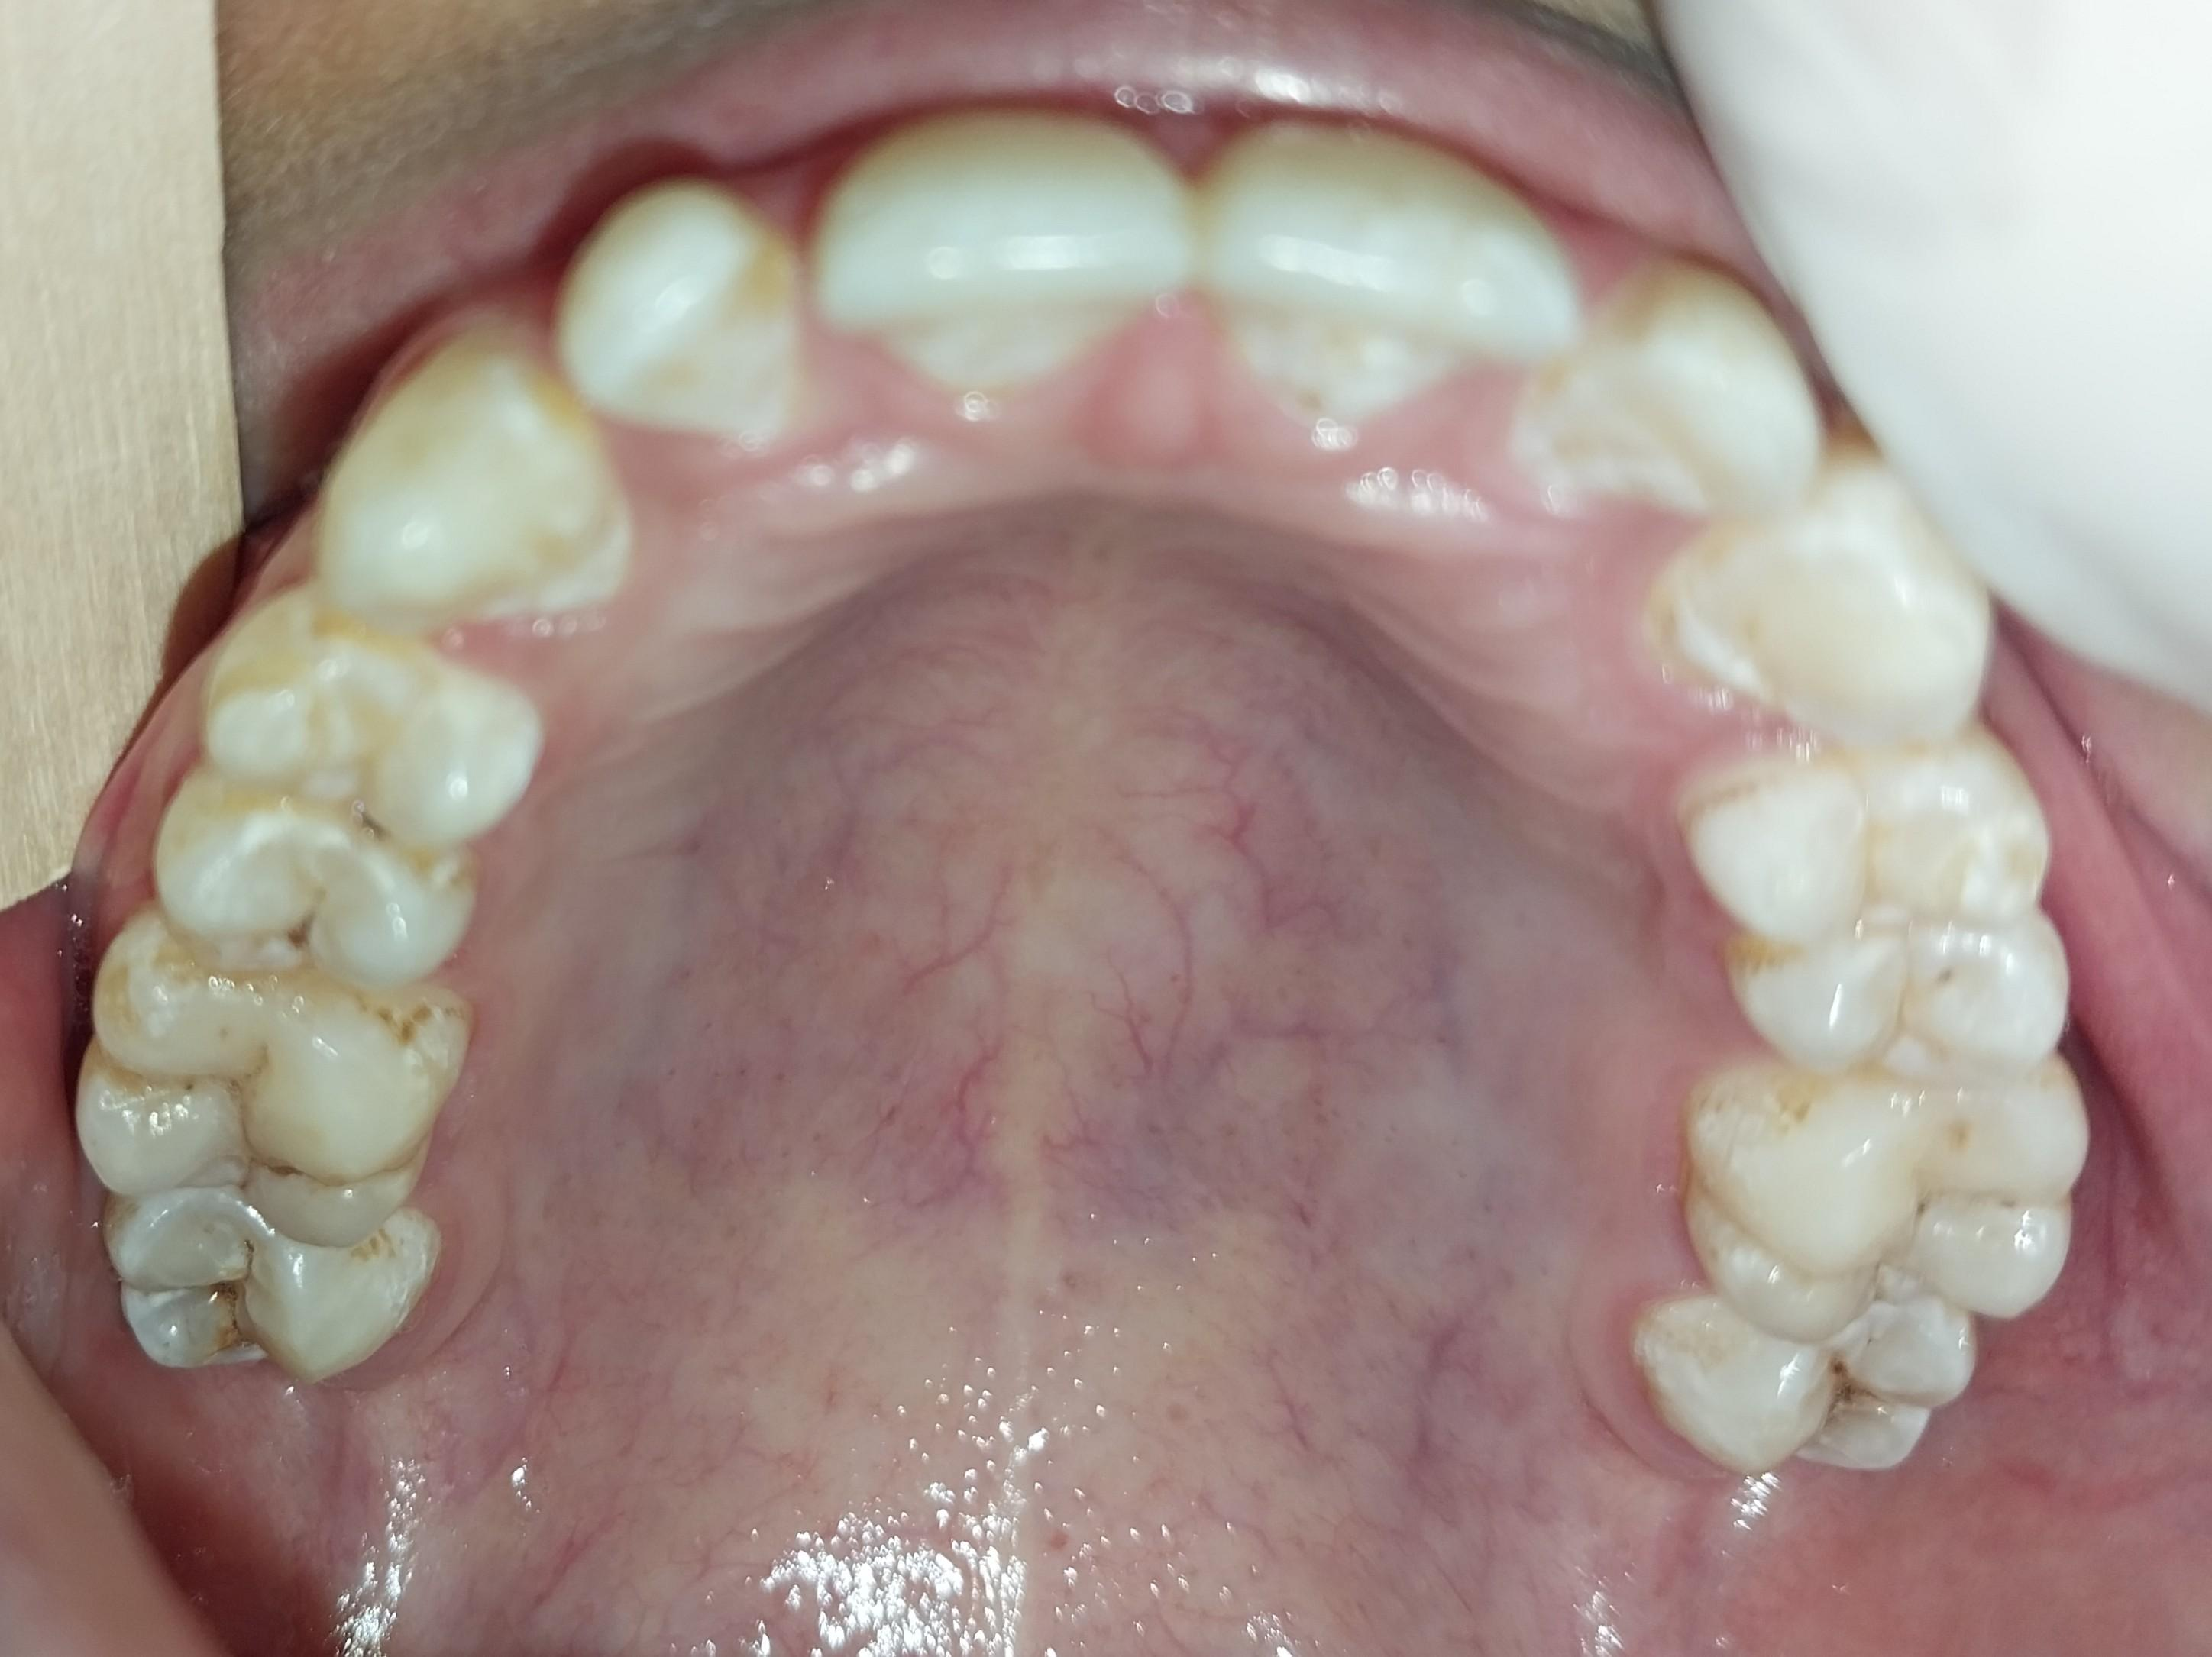D: (90, 927, 449, 1244), (170, 771, 475, 990), (1638, 1281, 1983, 1476), (93, 1201, 429, 1377)
